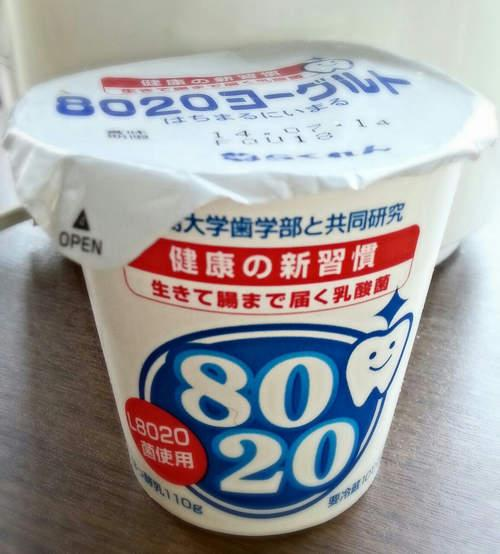cardboard: (5, 42, 497, 553)
